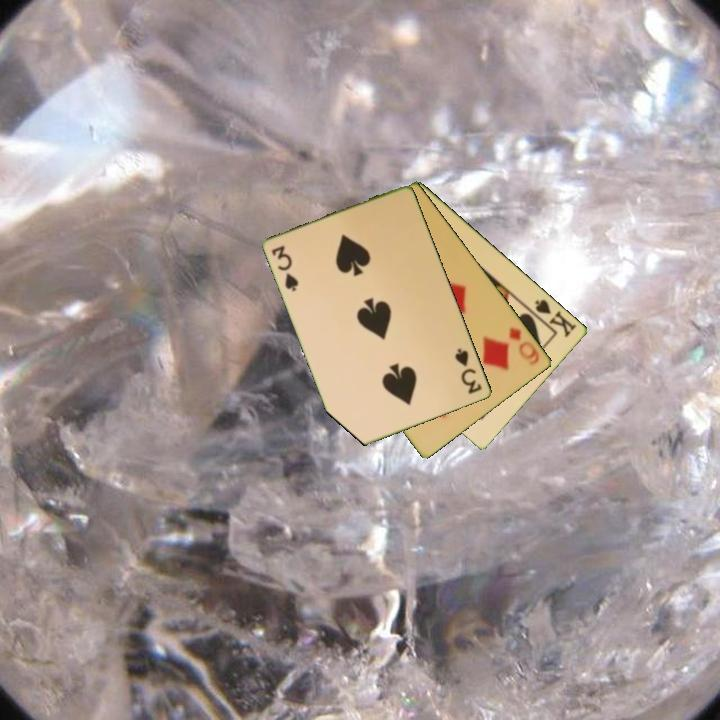3s: (268, 242, 302, 295), (452, 345, 485, 397)
6d: (506, 323, 543, 369)
Ks: (526, 295, 580, 341)
